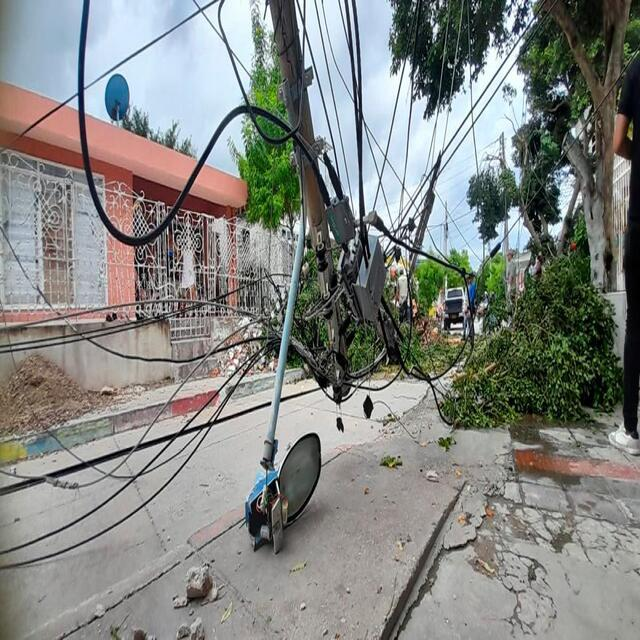Inclined Pole: (222, 0, 415, 557)
